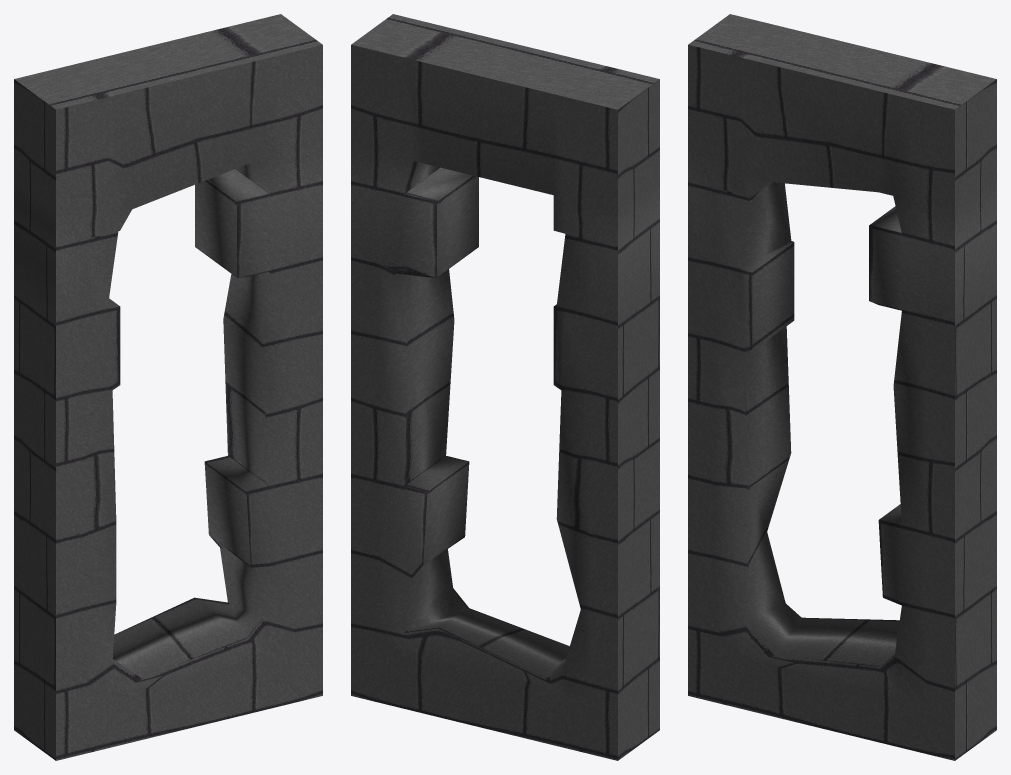
File: mure_cassé.fbx
3 views of the same model, side by side, from view 1: azimuth 30°, elevation 25°; view 2: azimuth 150°, elevation 25°; view 3: azimuth 330°, elevation 25° (orthographic).
Parts seen in each view (by area): view 1: Cube.007; view 2: Cube.007; view 3: Cube.007.
Part boxes in pixels (x1,y1,x2,y2): Cube.007: [14, 14, 322, 760]; Cube.007: [351, 14, 659, 760]; Cube.007: [688, 14, 996, 760].
Size of the model in its own units: 734 by 1713 by 200.
